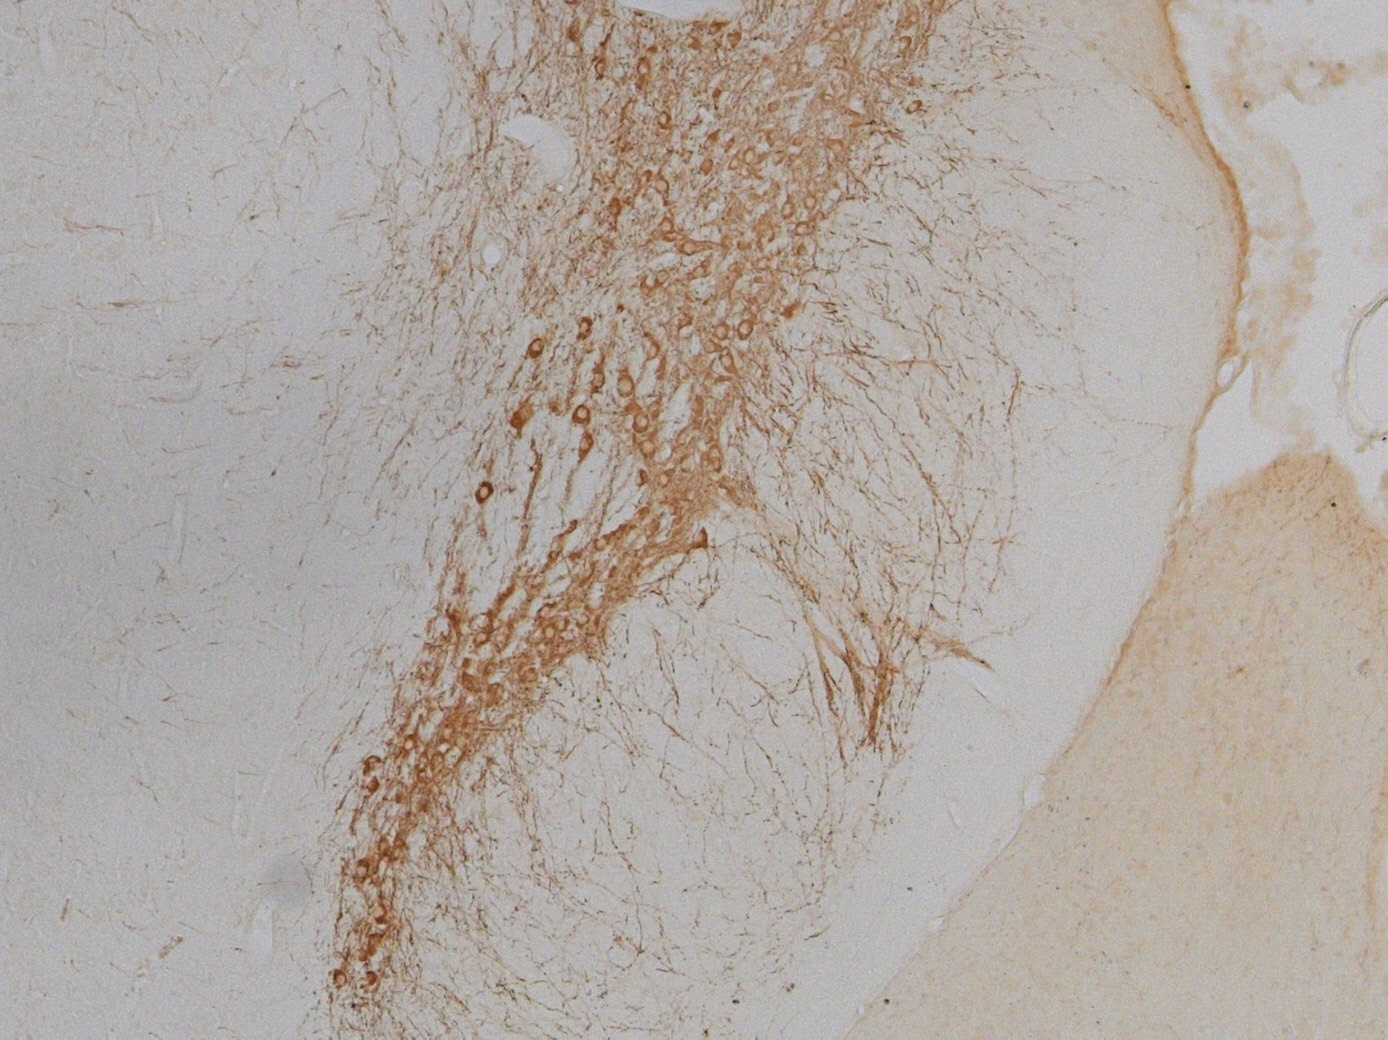neuron: (610, 368, 646, 404), (325, 965, 349, 989), (351, 862, 375, 886), (361, 752, 385, 776), (366, 900, 390, 924), (370, 834, 394, 858), (398, 733, 422, 757), (436, 722, 460, 746), (471, 626, 495, 650), (473, 482, 497, 506), (520, 662, 544, 686), (526, 336, 550, 361), (533, 598, 557, 622), (538, 621, 562, 645), (542, 543, 566, 567), (550, 612, 574, 636), (571, 317, 595, 341), (571, 401, 595, 425), (571, 608, 595, 633), (574, 432, 598, 456), (588, 368, 612, 392), (588, 58, 612, 82), (592, 532, 616, 556), (603, 198, 627, 222), (628, 466, 652, 491), (630, 410, 654, 434), (634, 57, 659, 81), (638, 269, 662, 293), (638, 436, 662, 460), (640, 339, 664, 363), (649, 176, 673, 200), (652, 106, 676, 130), (654, 214, 678, 238), (654, 263, 678, 287), (654, 468, 678, 492), (677, 238, 701, 262), (687, 260, 711, 284), (690, 528, 714, 552), (699, 334, 723, 358), (710, 319, 734, 343), (716, 348, 740, 373), (723, 152, 747, 176), (735, 318, 759, 342), (738, 144, 762, 168), (793, 217, 817, 241), (800, 189, 825, 213), (825, 135, 849, 159), (893, 33, 917, 57), (901, 95, 925, 119), (703, 444, 727, 466), (778, 197, 800, 221)
